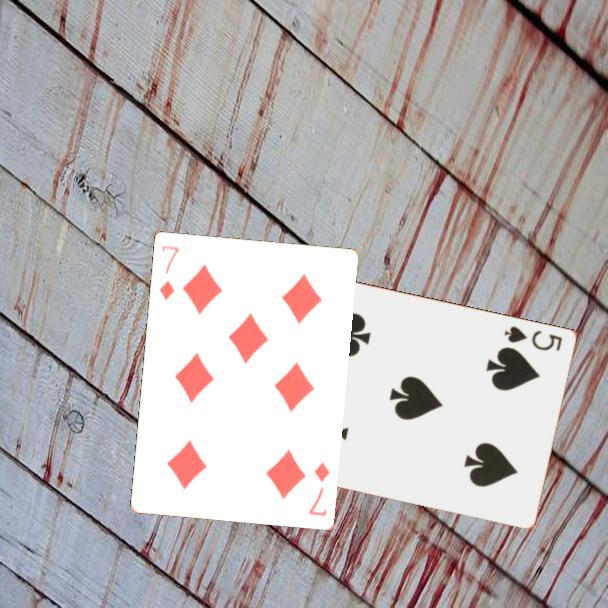d07: (305, 458, 333, 519), (156, 242, 182, 303)
s05: (501, 322, 565, 353)
